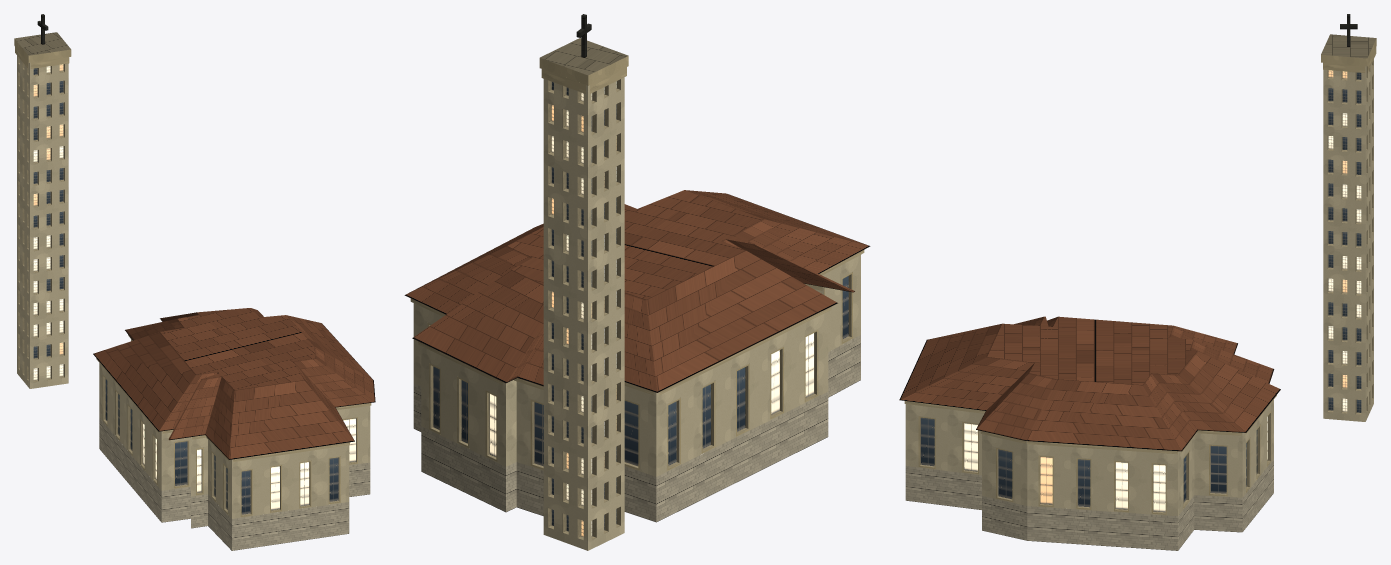
Rendered from k39w3_konrad.glb.
3 renders of one model, left to right at view 1: azimuth 30°, elevation 25°; view 2: azimuth 150°, elevation 25°; view 3: azimuth 270°, elevation 25°, orthographic. The views are drawn at different scales.
Visible parts, largest first — view 1: k39w3_konrad; view 2: k39w3_konrad; view 3: k39w3_konrad.
Part boxes in pixels (x1=…): k39w3_konrad: x1=14, y1=14, x2=375, y2=550; k39w3_konrad: x1=404, y1=14, x2=870, y2=550; k39w3_konrad: x1=899, y1=14, x2=1376, y2=550.
Size of the model in its own units: 26.97 by 43.5 by 43.65.
Materials: 3 (3 with a texture image).
